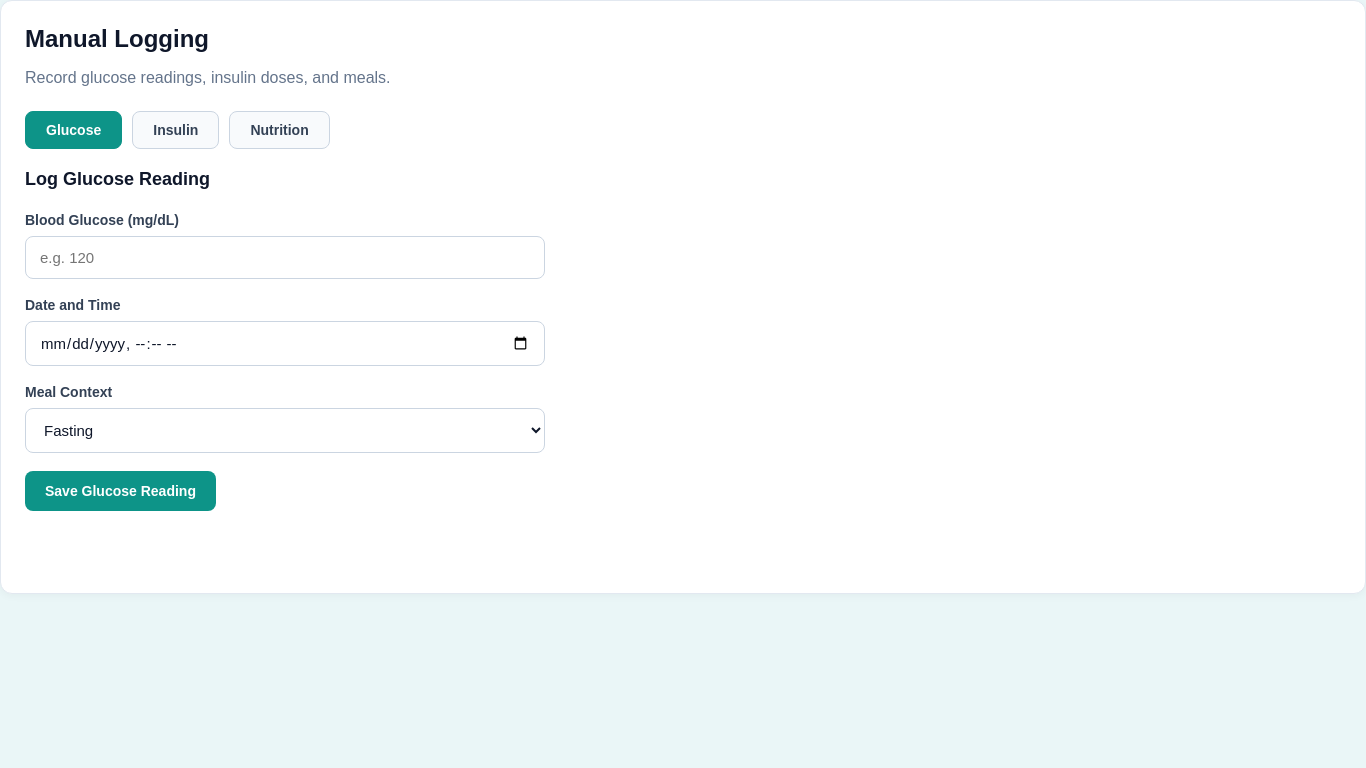
ManualLogging › preserves glucose values when switching tabs
Step 1. Type "145" into the number field labelled "Blood Glucose (mg/dL)" → (285, 258), box [25,236,545,279]
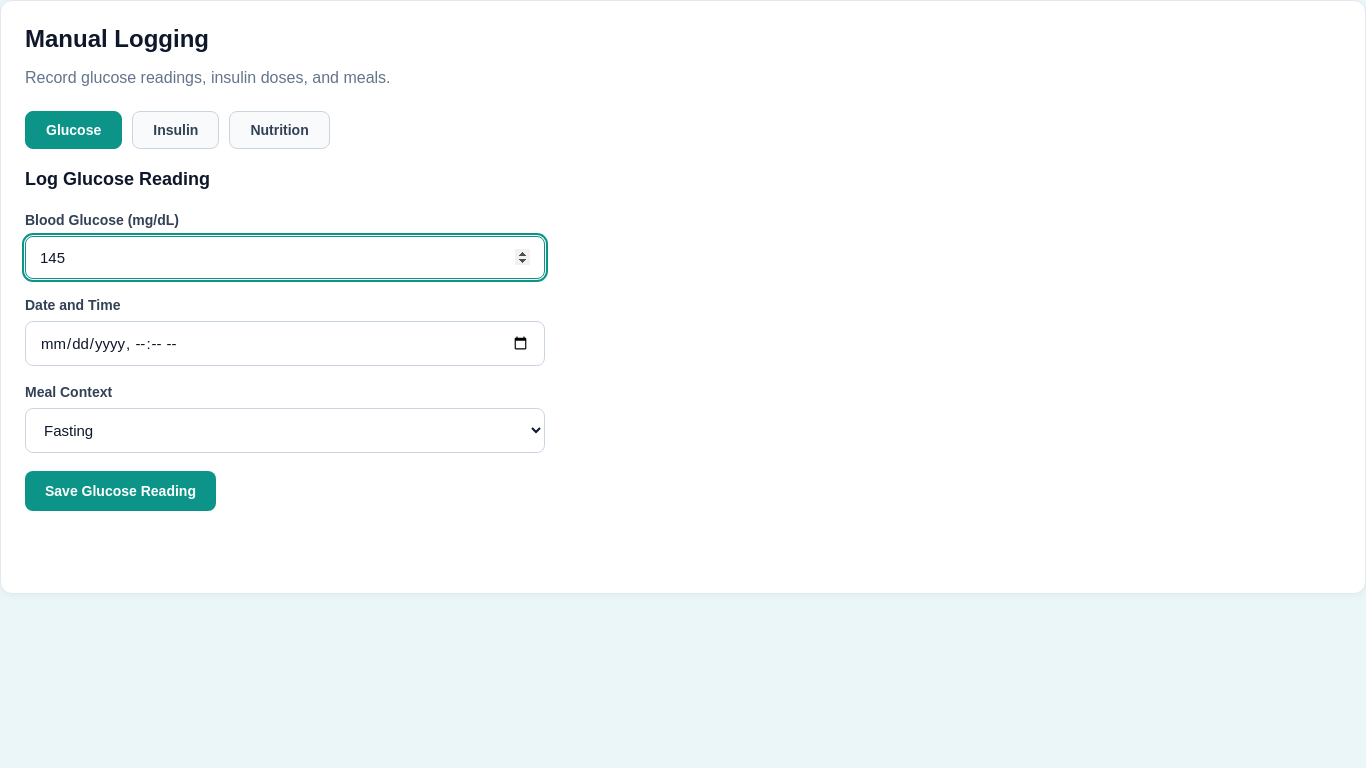
Step 2. Click the button "Insulin" → (176, 130), box [132,111,219,149]
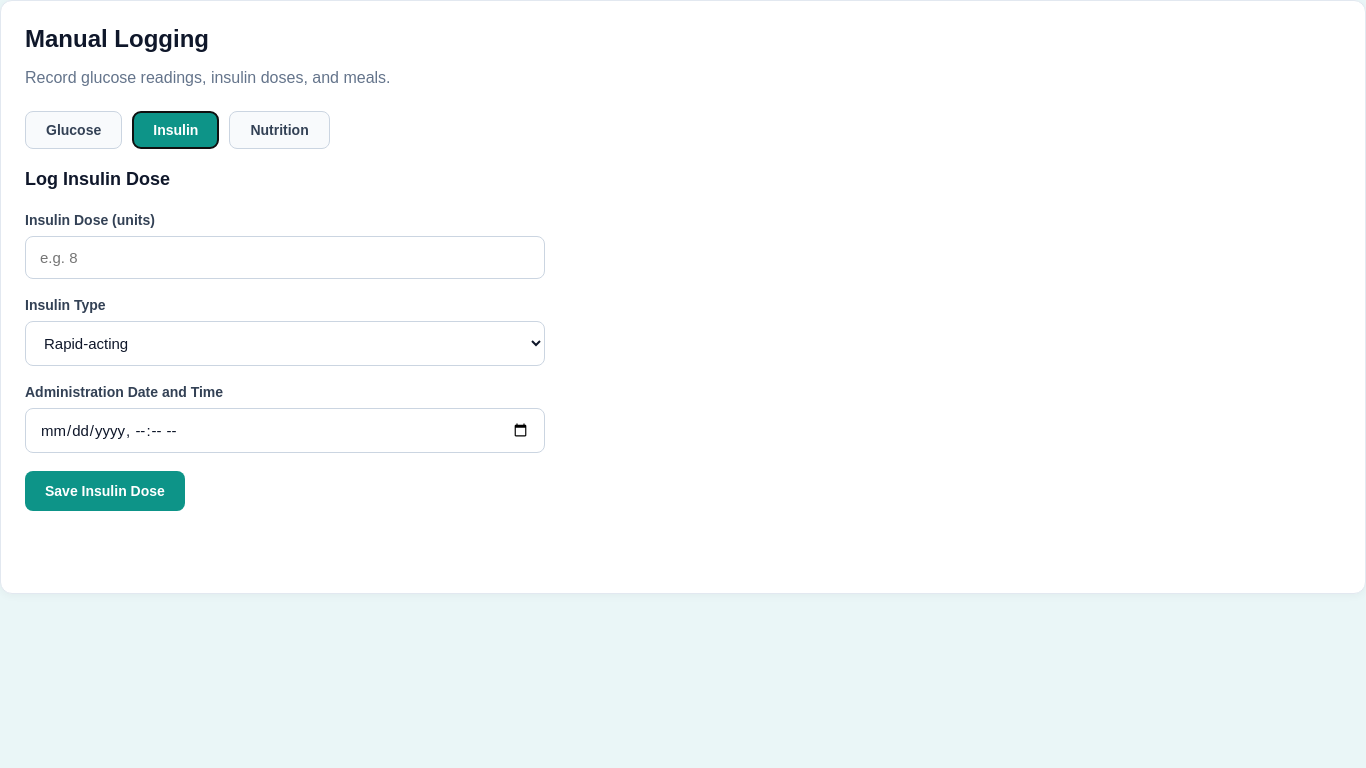
Step 3. Click the button "Glucose" → (74, 130), box [25,111,122,149]
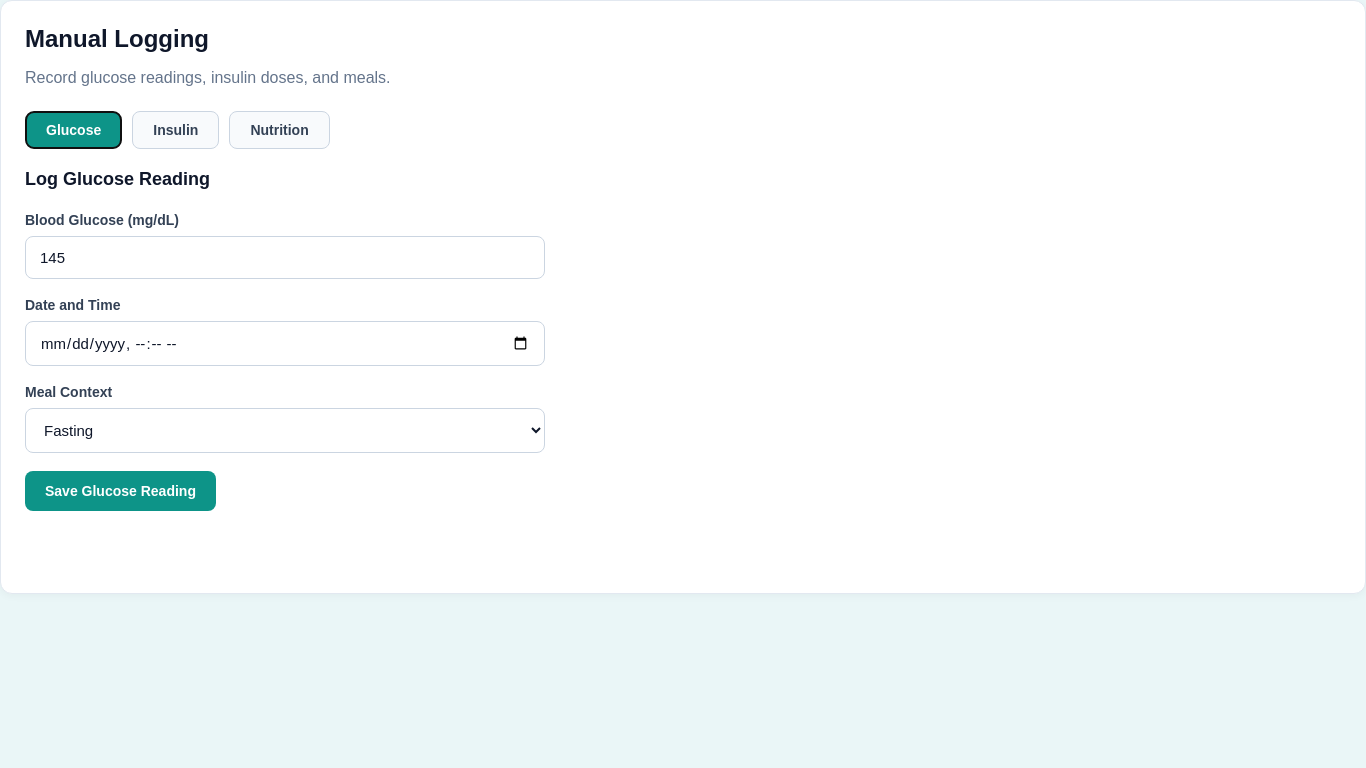
Expected: the number field labelled "Blood Glucose (mg/dL)" holds "145", [25,236,545,279]
